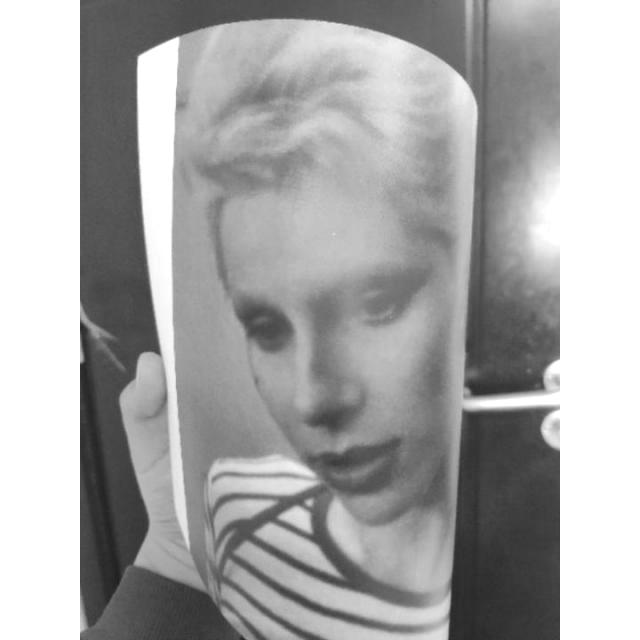fake: (130, 17, 481, 639)
